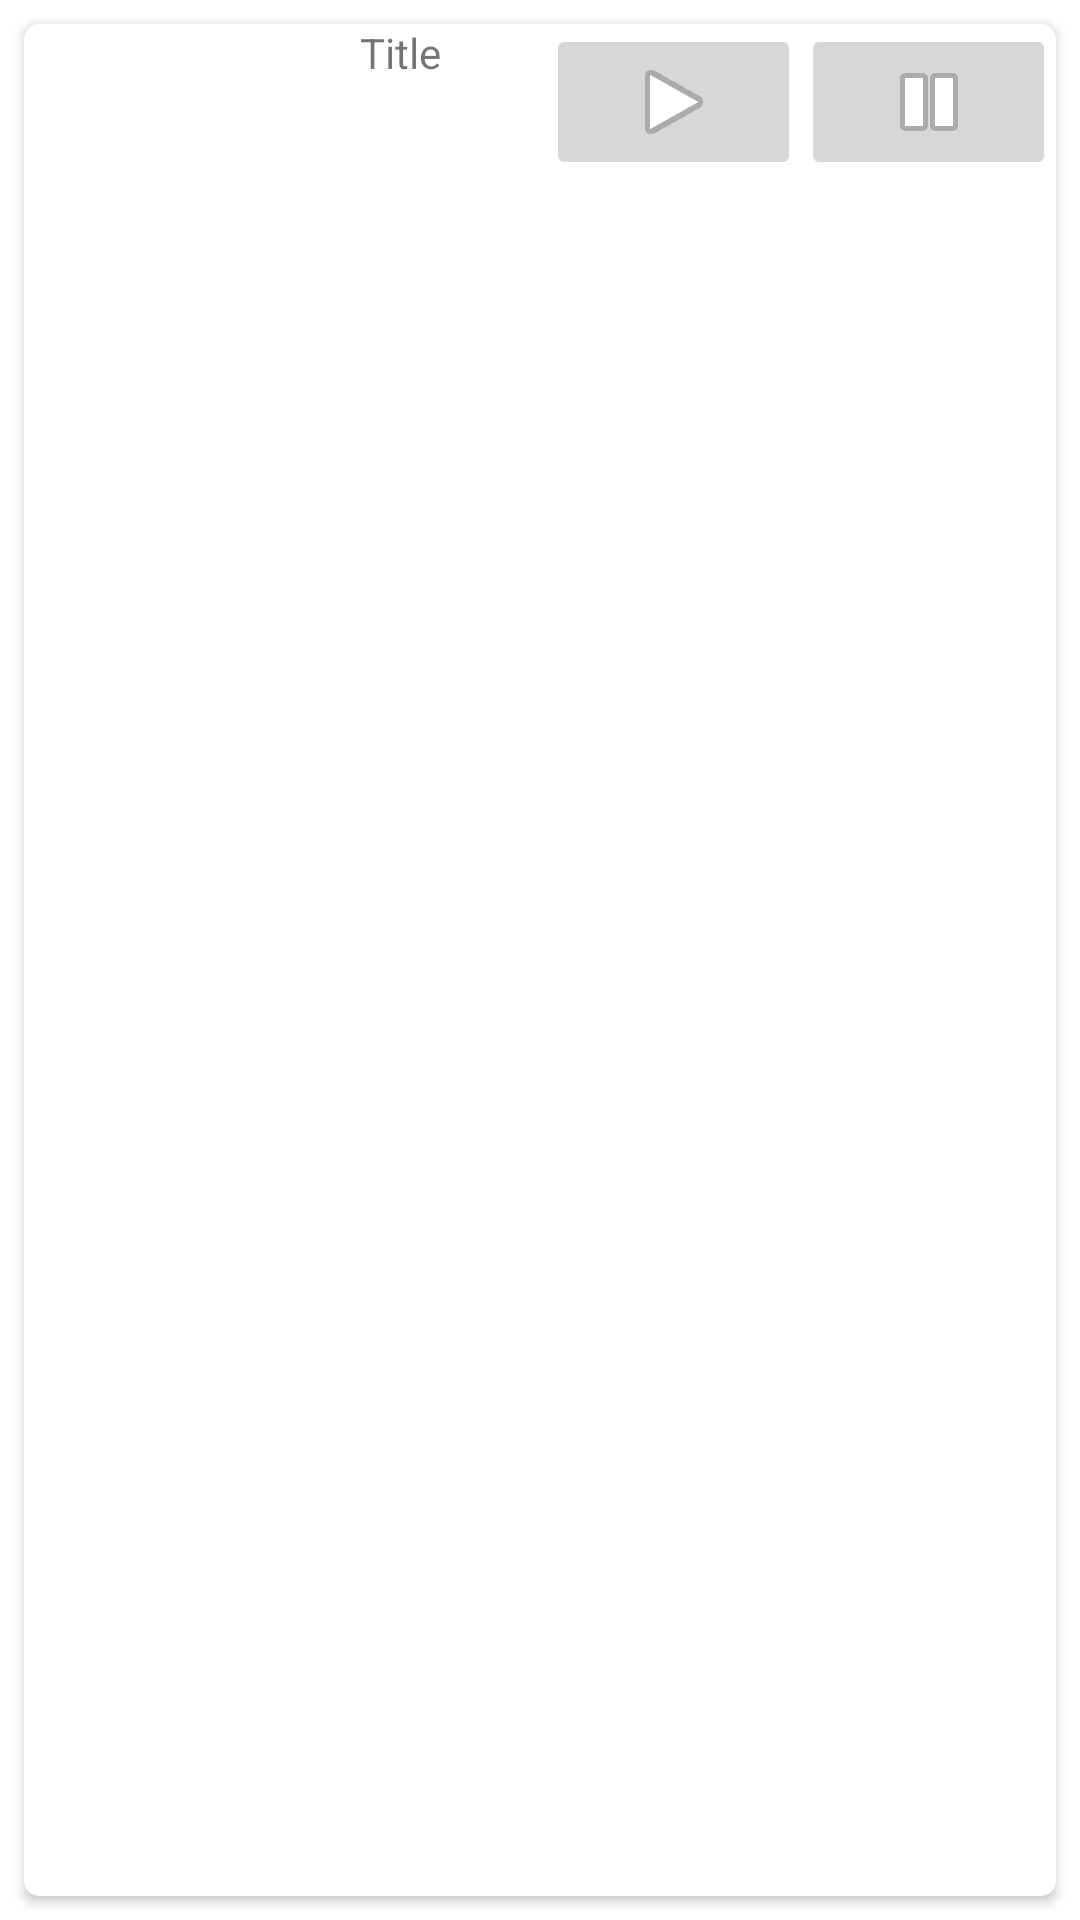

Screen size 1080×1920. Icon name, then its box in pixels as bbox=[x1, y1, x2, y2]:
pause: bbox=[813, 34, 1056, 162]
play: bbox=[558, 42, 789, 162]
